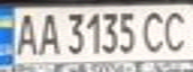1: (81, 9, 103, 55)
3: (100, 9, 121, 55), (63, 9, 84, 55)
5: (115, 8, 142, 54)
A: (9, 10, 39, 56), (33, 9, 60, 56)
C: (160, 7, 193, 54), (139, 8, 172, 55)
